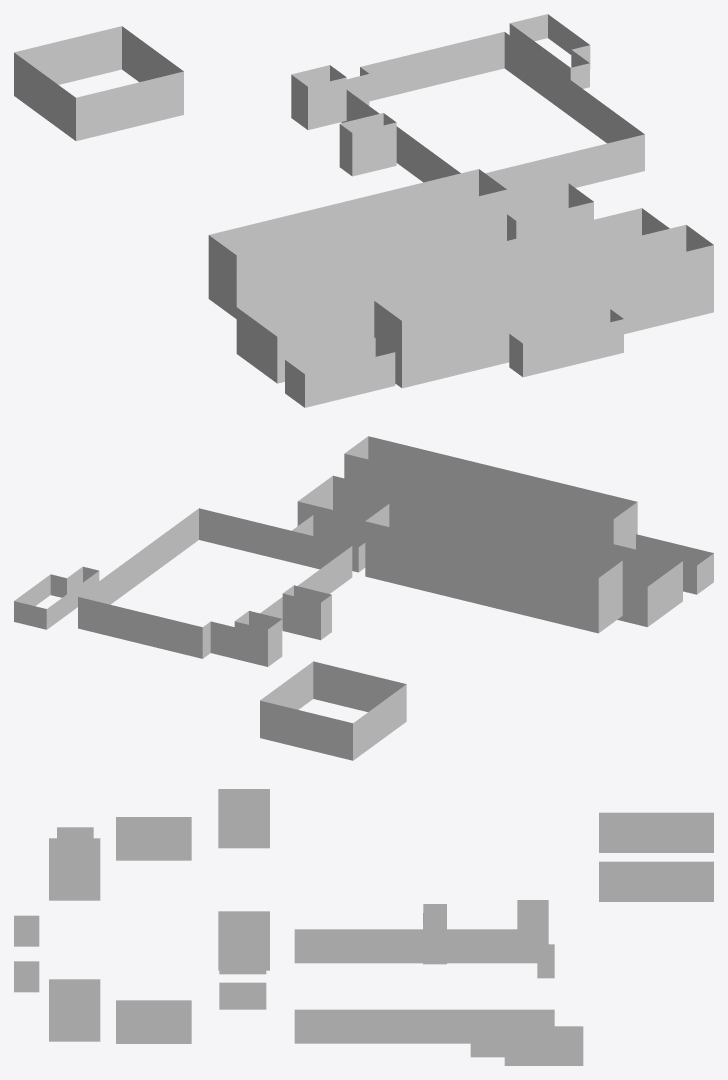
Rendered from 四色图.glb.
The picture shows the model from 3 angles, top to bottom: view 1: azimuth 30°, elevation 25°; view 2: azimuth 150°, elevation 25°; view 3: azimuth 270°, elevation 25°; orthographic projection. The views are drawn at different scales.
Visible parts, largest first — view 1: 四色图低风险区域带透明通道, 四色图一般风险区域带透明通道; view 2: 四色图低风险区域带透明通道, 四色图一般风险区域带透明通道; view 3: 四色图低风险区域带透明通道, 四色图一般风险区域带透明通道.
Part boxes in pixels (<box>): 四色图低风险区域带透明通道: <box>208,32,713,388</box>; 四色图一般风险区域带透明通道: <box>14,14,623,407</box>; 四色图低风险区域带透明通道: <box>78,436,682,666</box>; 四色图一般风险区域带透明通道: <box>14,515,713,760</box>; 四色图低风险区域带透明通道: <box>49,789,554,1043</box>; 四色图一般风险区域带透明通道: <box>14,812,713,1065</box>.
Size of the model in its own units: 347 by 53.02 by 430.
Materials: 2 (2 with a texture image).
